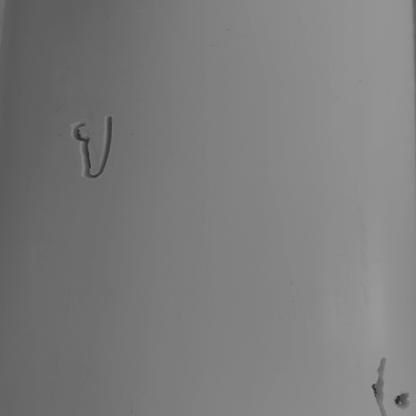fengxi: (64, 115, 118, 183)
kongdong: (372, 349, 389, 415), (391, 388, 416, 411)
